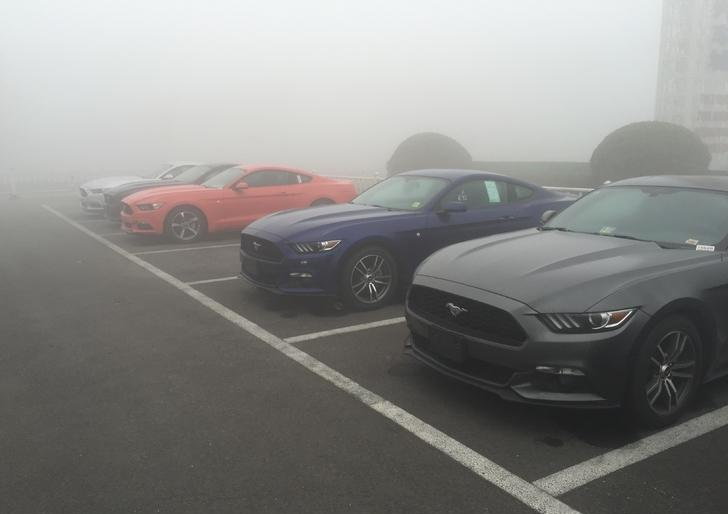car: (400, 174, 728, 419), (235, 168, 577, 312), (117, 165, 358, 244), (104, 162, 312, 229), (78, 159, 271, 221)
